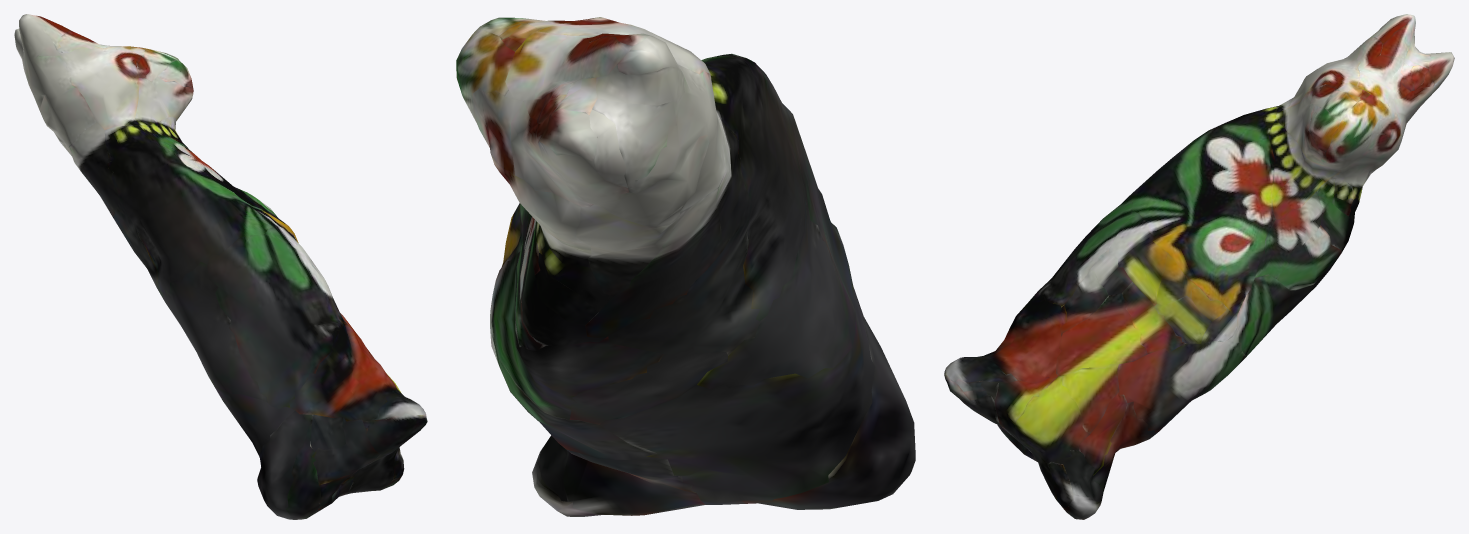
Rendered from hall.glb.
The picture shows the model from 3 angles, left to right: view 1: azimuth 30°, elevation 25°; view 2: azimuth 150°, elevation 25°; view 3: azimuth 270°, elevation 25°; orthographic projection. The views are drawn at different scales.
Size of the model in its own units: 0.3893 by 0.6704 by 0.7609.
1 material, 1 textured.
